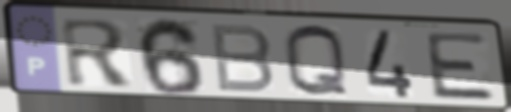4: (364, 28, 416, 100)
6: (133, 15, 208, 98)
B: (207, 22, 277, 95)
E: (422, 30, 500, 103)
Q: (280, 22, 353, 100)
R: (57, 17, 138, 89)
